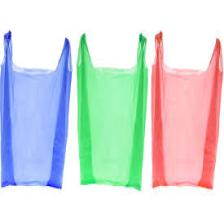plastic: (1, 31, 73, 192), (151, 33, 223, 191), (81, 33, 148, 190)
